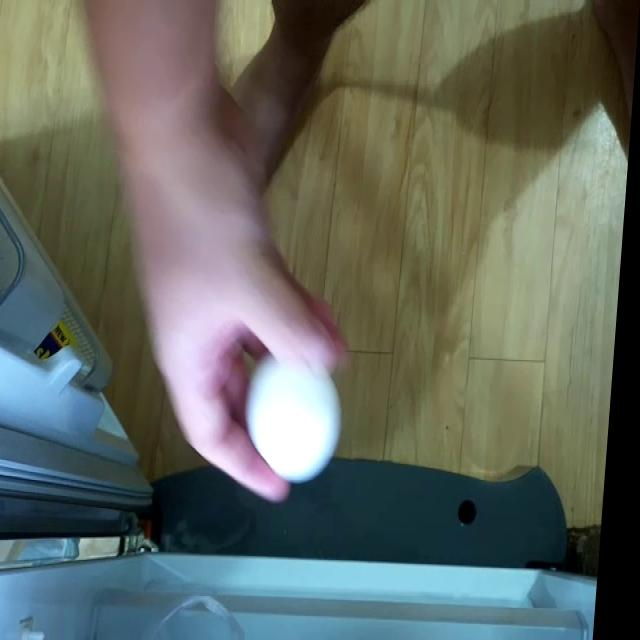egg: (250, 352, 352, 470)
